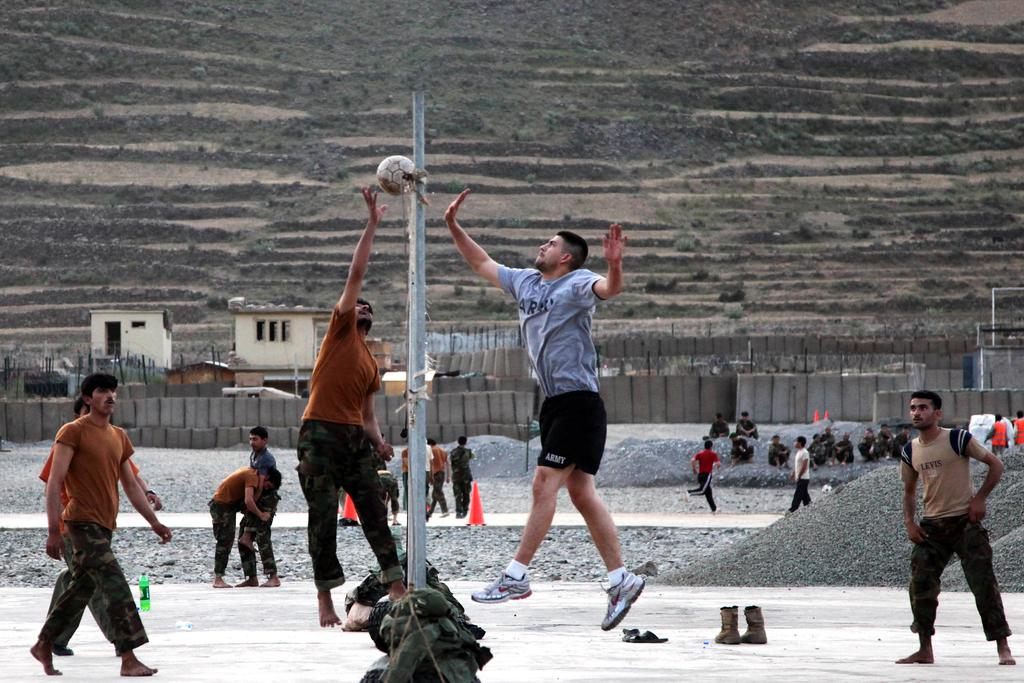no_helmet: (532, 257, 592, 290), (886, 367, 954, 396), (80, 347, 124, 384)
none: (492, 269, 656, 429), (38, 382, 180, 507), (286, 300, 406, 428), (876, 384, 1006, 482), (195, 422, 284, 471), (230, 408, 306, 461), (782, 401, 832, 442), (685, 405, 736, 444), (448, 405, 478, 433)
